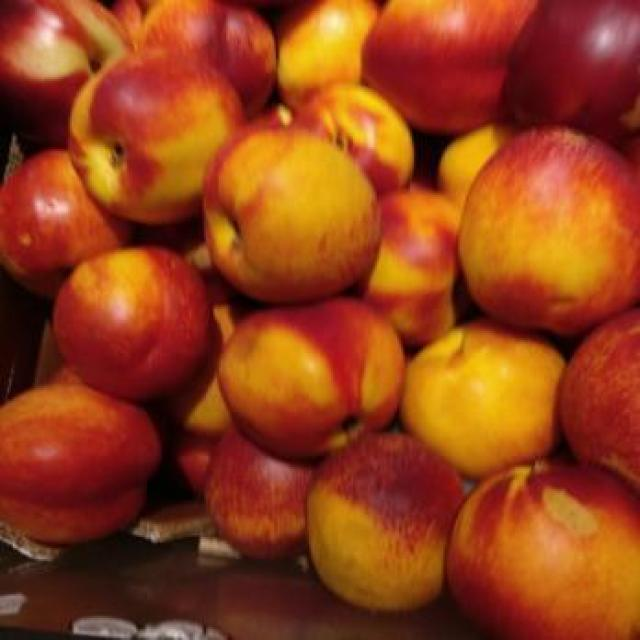Nectarine: (460, 127, 638, 331), (447, 467, 638, 638), (206, 128, 383, 302), (217, 302, 406, 464), (70, 54, 244, 225), (306, 432, 464, 614), (0, 381, 162, 544), (405, 314, 570, 471), (55, 248, 210, 399), (358, 0, 535, 132), (4, 149, 136, 298), (502, 2, 638, 125)
